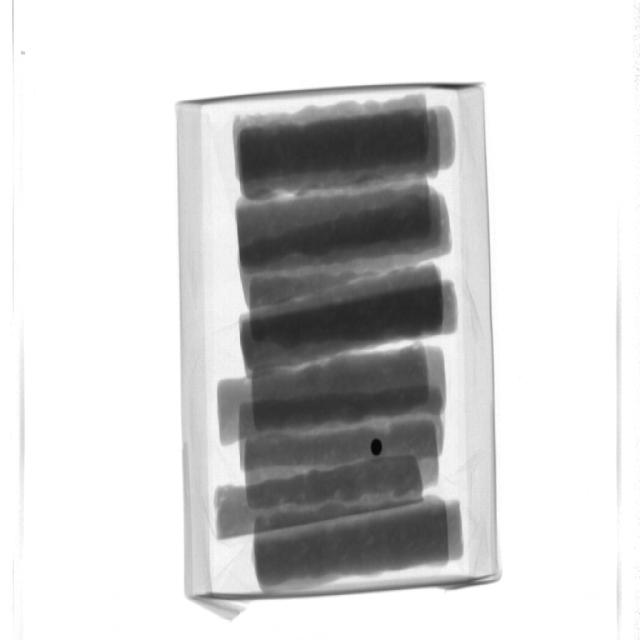ym: (373, 439, 384, 458)
